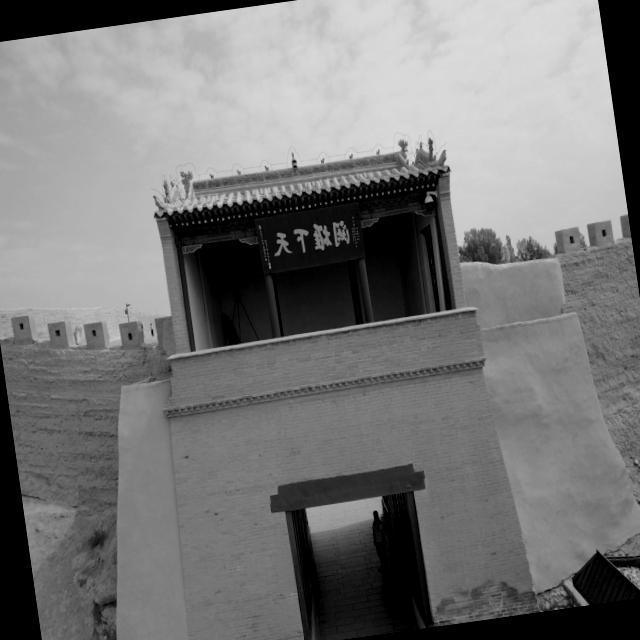person: (368, 509, 391, 576)
